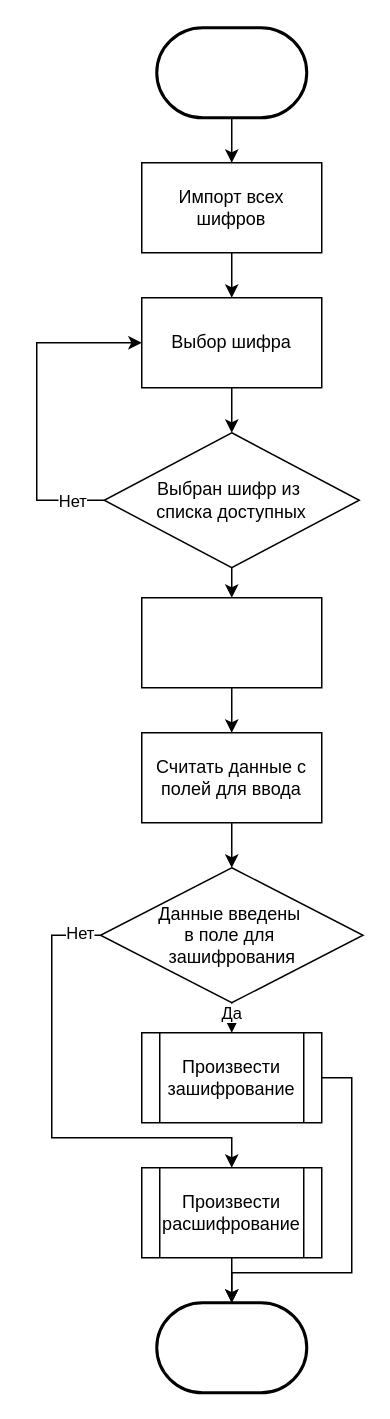
Some shapes in this 390 by 1419 pixel diagram are drawn without their labels. The shapes that lost their labels are listed below. From the top down, each one's box as (x1, y1, x2, y2) in pixels, then its label:
(154, 26, 308, 118): Начало
(140, 596, 322, 688): Отобразить необходимые поля для ввода
(154, 1300, 308, 1394): Вернуть результат
